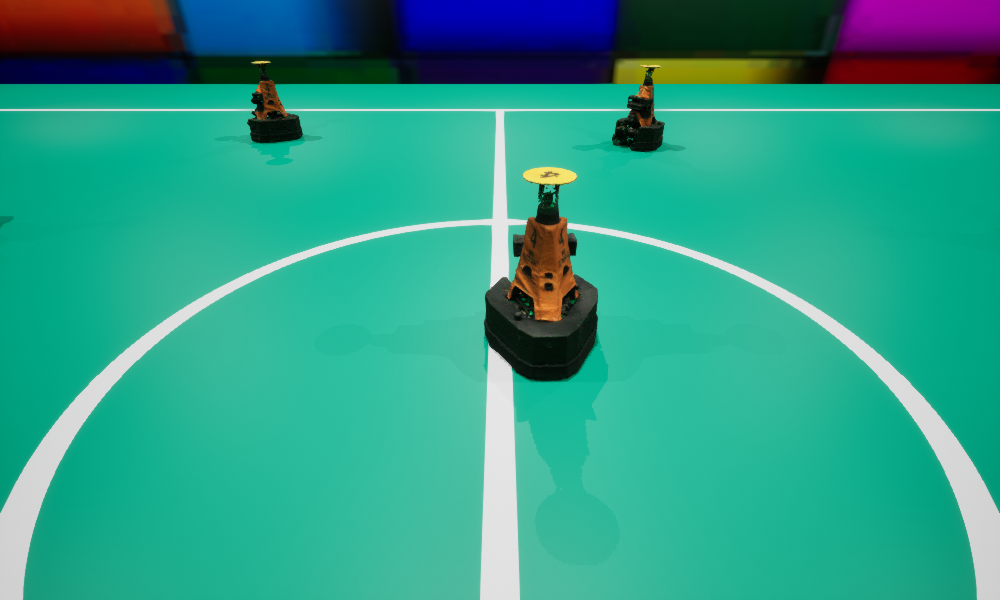o: (484, 167, 597, 380), (247, 61, 302, 142), (612, 65, 664, 150)
